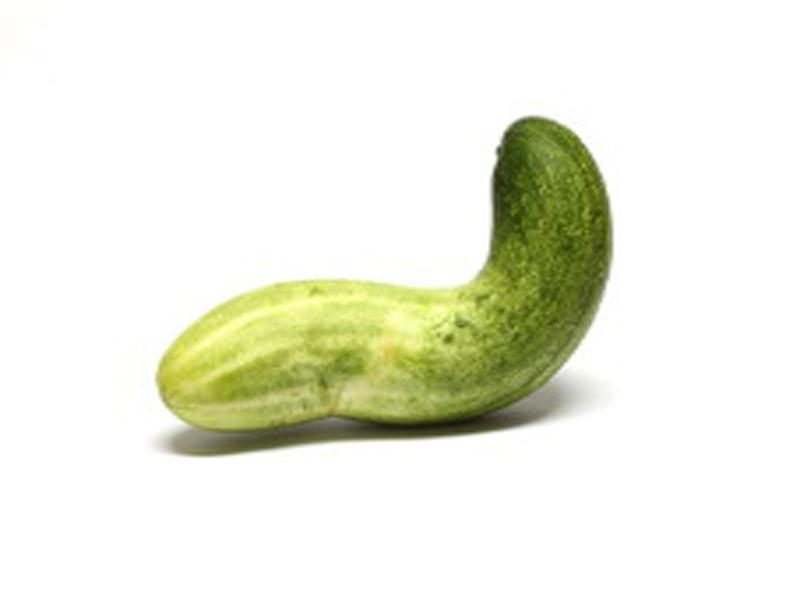Cucumber: (155, 116, 613, 433)
